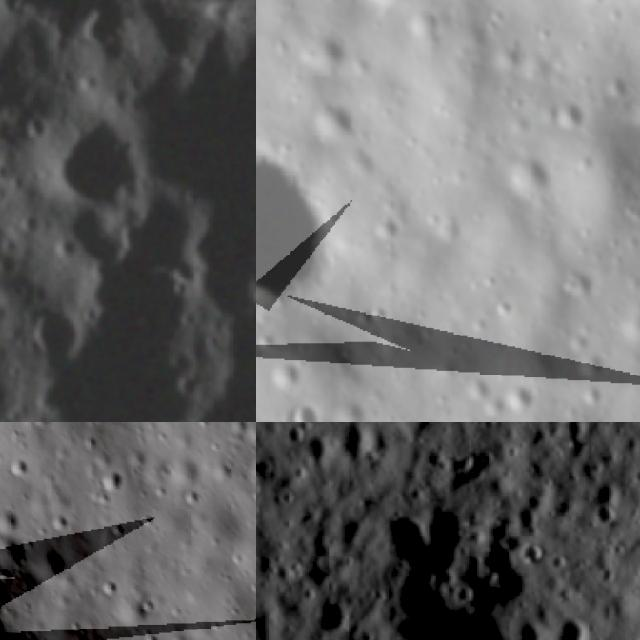crater: (23, 96, 158, 228), (377, 557, 564, 640), (256, 152, 325, 304), (12, 290, 100, 374), (458, 529, 536, 613), (369, 498, 441, 574), (413, 492, 481, 561), (576, 470, 636, 537), (321, 422, 386, 472), (306, 586, 358, 638), (291, 422, 339, 473), (294, 34, 354, 68), (510, 158, 554, 204), (314, 100, 366, 137), (544, 609, 597, 640), (553, 422, 599, 452), (498, 383, 538, 412), (0, 504, 26, 541), (269, 356, 301, 384), (552, 104, 584, 132), (95, 470, 128, 495), (293, 398, 322, 422), (490, 298, 519, 321), (52, 514, 77, 537), (33, 627, 75, 640), (107, 519, 128, 540), (180, 485, 198, 508), (12, 456, 30, 478), (138, 626, 166, 640), (248, 451, 256, 491)
